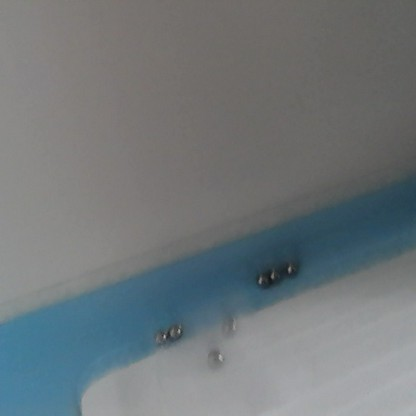ironball: (218, 311, 240, 336), (204, 346, 225, 367), (150, 327, 168, 349), (166, 321, 185, 341), (282, 259, 299, 278), (266, 265, 281, 283), (254, 273, 268, 288)
